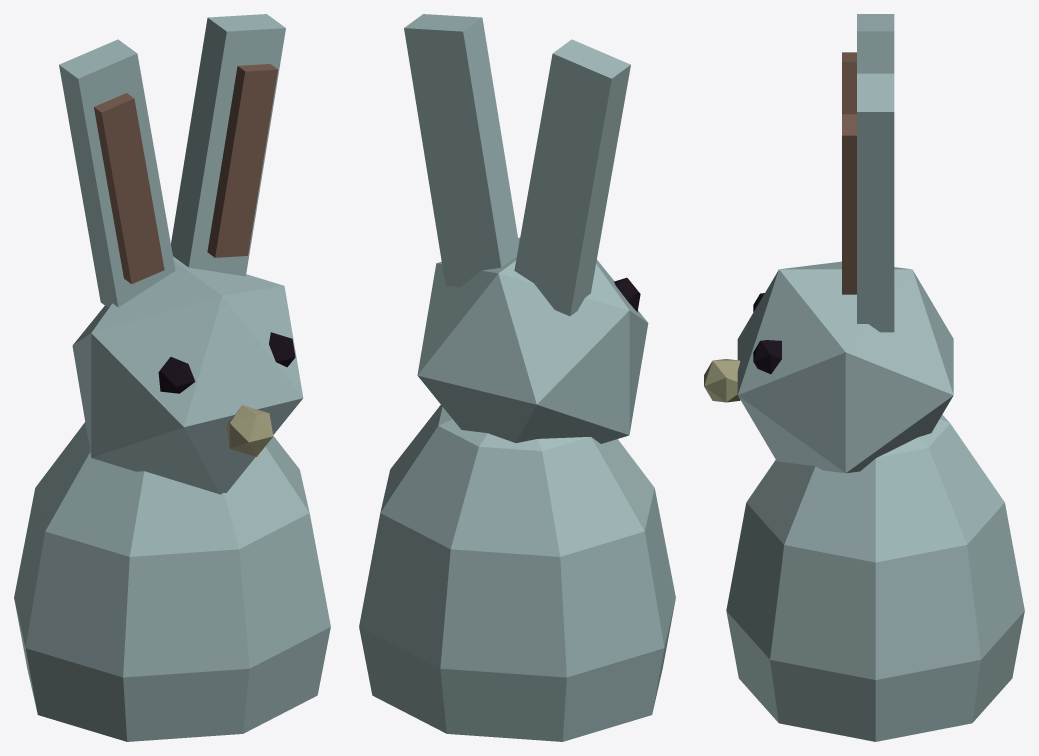
The model's file is rabbit.glb.
3 renders of one model, left to right at view 1: azimuth 30°, elevation 25°; view 2: azimuth 150°, elevation 25°; view 3: azimuth 270°, elevation 25°, orthographic. The views are drawn at different scales.
Parts seen in each view (by area): view 1: Body, Head, EarR, EarL, InR, InL, Nose, EyeL, EyeR; view 2: Body, Head, EarR, EarL; view 3: Body, Head, EarR, InR, EarL, Nose, InL, EyeR.
Boxes of the visible parts, box(x1,y1,x2,y2) form: Body: box(14, 422, 330, 741); Head: box(72, 256, 303, 494); EarR: box(171, 14, 285, 276); EarL: box(59, 39, 175, 307); InR: box(207, 64, 277, 257); InL: box(94, 93, 164, 283); Nose: box(226, 405, 273, 456); EyeL: box(158, 357, 195, 393); EyeR: box(269, 332, 295, 367); Body: box(359, 405, 675, 741); Head: box(417, 237, 648, 443); EarR: box(404, 14, 518, 286); EarL: box(514, 39, 630, 316); Body: box(726, 415, 1024, 741); Head: box(737, 261, 953, 473); EarR: box(857, 73, 894, 332); InR: box(842, 114, 856, 294); EarL: box(857, 14, 894, 73); Nose: box(704, 359, 740, 402); InL: box(842, 52, 856, 114); EyeR: box(753, 340, 781, 374).
Bounding box in the file's own units: 0.44 × 0.9251 × 0.4298.
